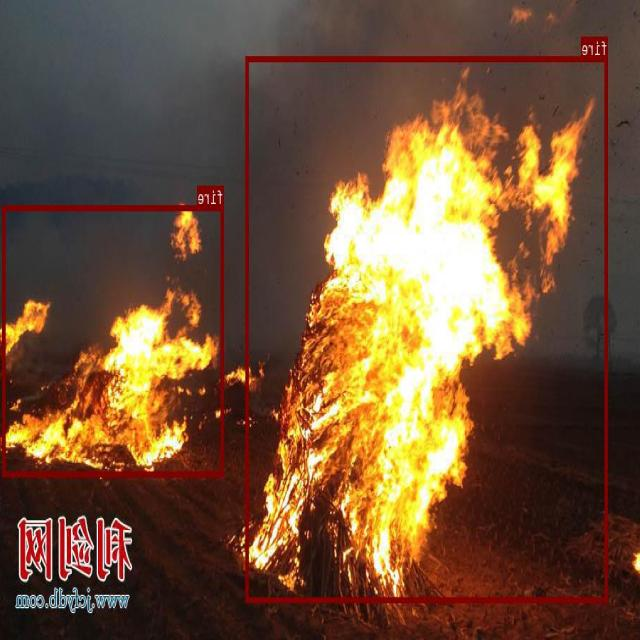fire: (246, 55, 608, 601), (3, 204, 225, 476)
